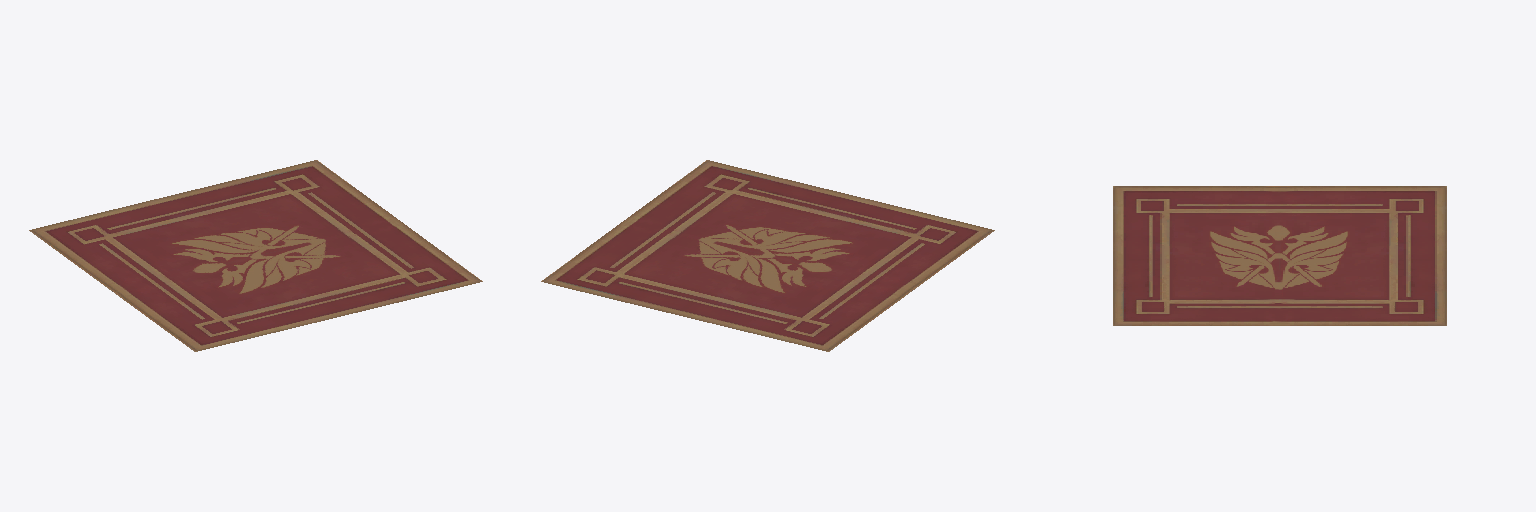
3 renders of one model, left to right at view 1: azimuth 30°, elevation 25°; view 2: azimuth 150°, elevation 25°; view 3: azimuth 270°, elevation 25°, orthographic.
Visible parts, largest first — view 1: pasted__pPlane1 group1; view 2: pasted__pPlane1 group1; view 3: pasted__pPlane1 group1.
Part boxes in pixels (x1,y1,x2,y2): pasted__pPlane1 group1: (29, 160, 482, 351); pasted__pPlane1 group1: (541, 160, 994, 351); pasted__pPlane1 group1: (1113, 186, 1446, 325).
Size of the model in its own units: 2.9 by 0 by 2.9.
Materials: 1 (1 with a texture image).